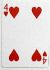four: (2, 1, 48, 68)
